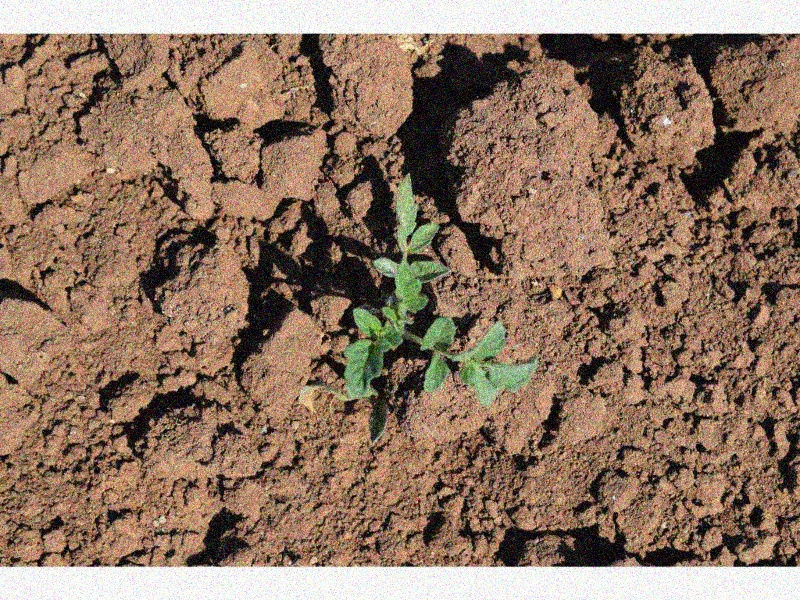tomato: (343, 170, 538, 405)
